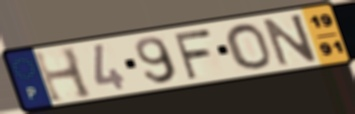4: (92, 42, 127, 93)
9: (133, 35, 179, 85)
F: (170, 27, 213, 81)
H: (30, 45, 96, 105)
N: (260, 12, 320, 68)
O: (223, 22, 274, 71)
